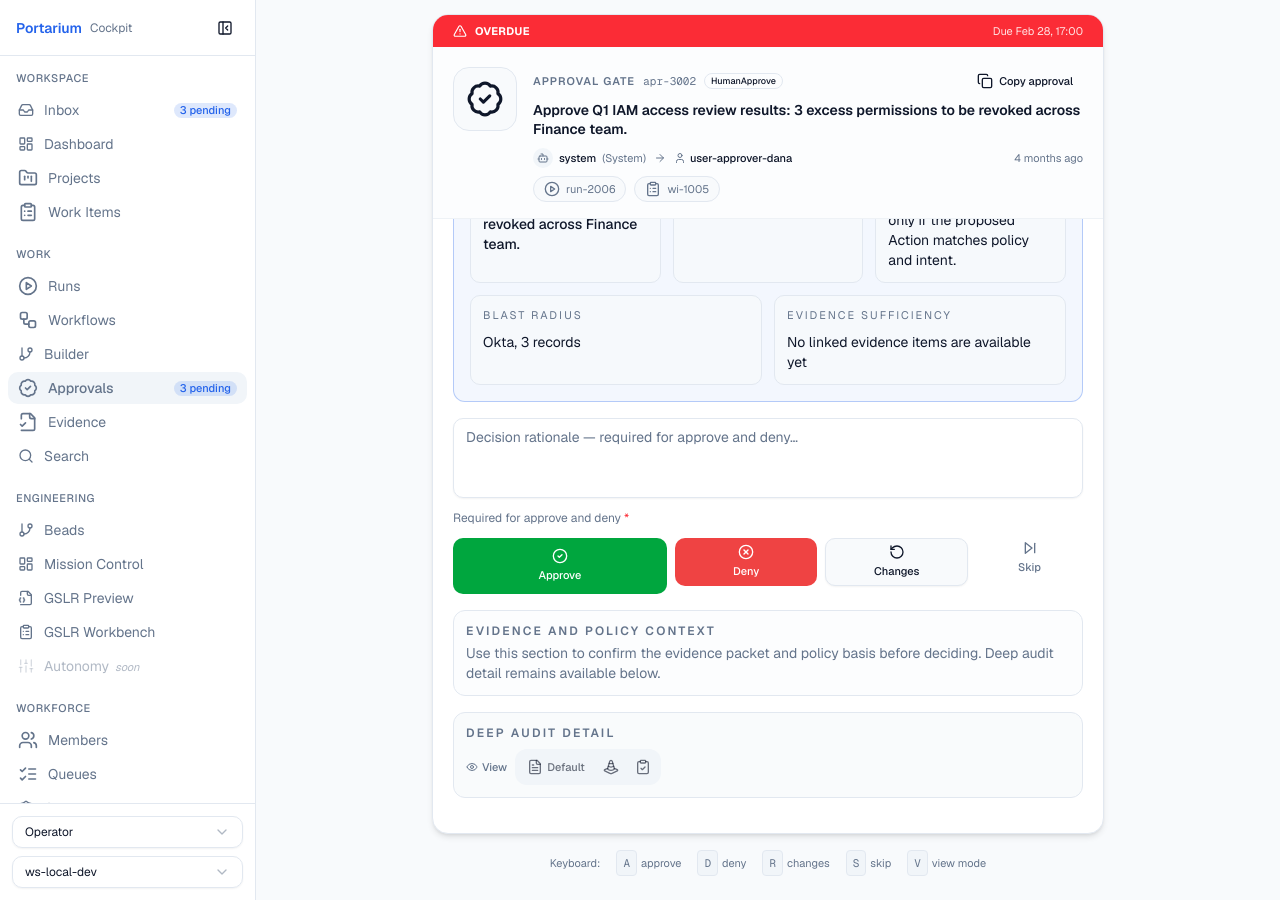
Test: Approvals triage page › does not advance to another approval after skipping a policy-studio focused review
(page scrolled)
Click the button "Skip".
click(1030, 558)  # box 976,538 -> 1083,578
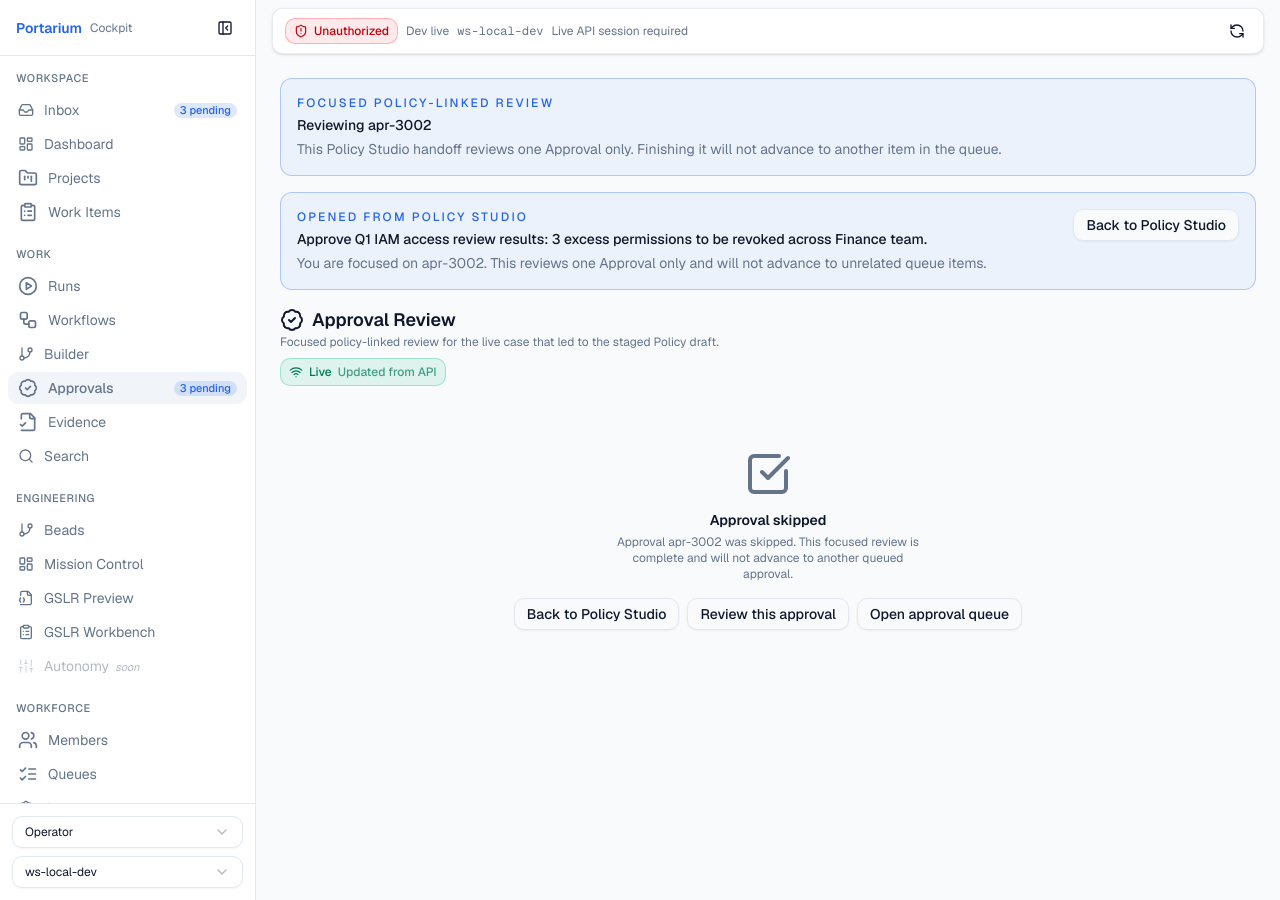
Expected: the heading "Approval skipped" is shown, 710,510 -> 826,530
Expected: the text "will not advance to another queued approval" is shown, 617,534 -> 919,582
Expected: the link "Back to Policy Studio" in the row of "Opened from Policy Studio" is shown, 1073,209 -> 1239,241
